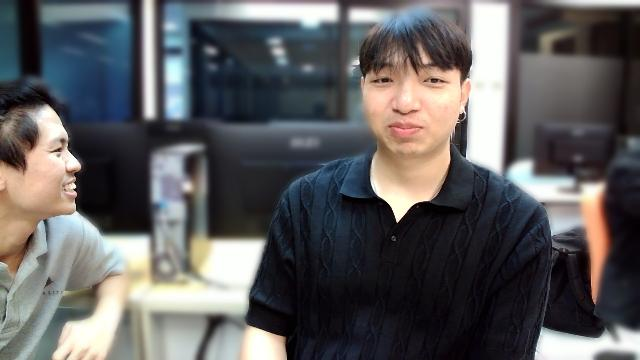fokus: (361, 23, 465, 158)
